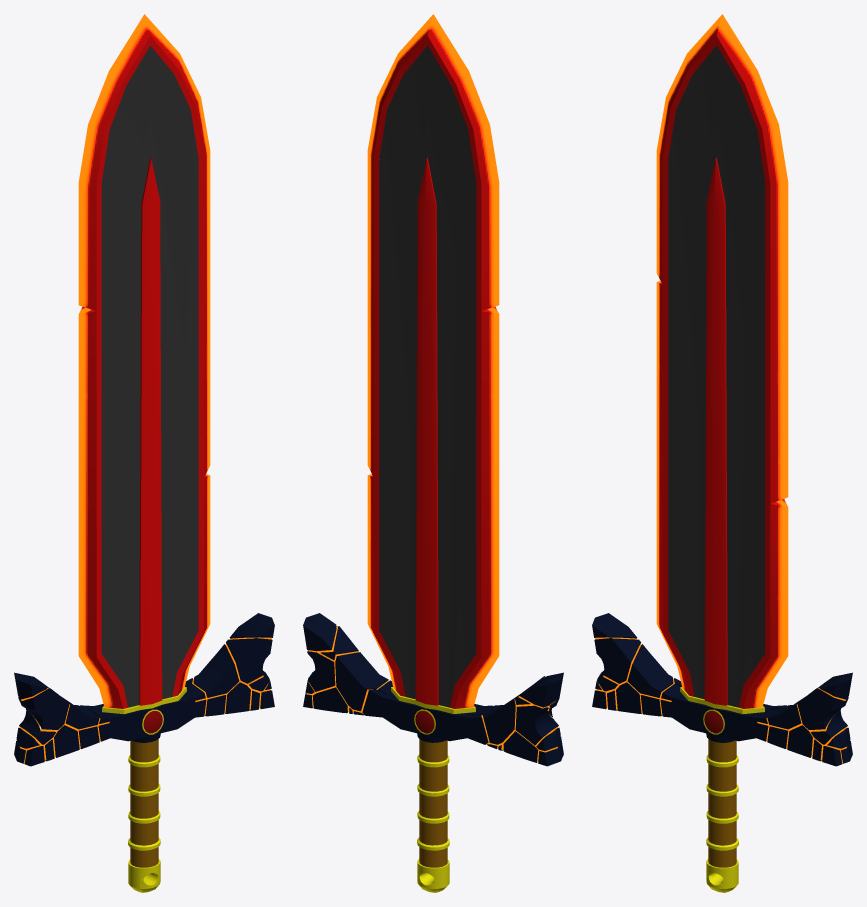
File: ruby_essence_sword.glb
The picture shows the model from 3 angles, left to right: view 1: azimuth 30°, elevation 25°; view 2: azimuth 150°, elevation 25°; view 3: azimuth 330°, elevation 25°; orthographic projection.
Parts seen in each view (by area): view 1: Ruby Eclipse; view 2: Ruby Eclipse; view 3: Ruby Eclipse.
Boxes of the visible parts, box(x1,y1,x2,y2) form: Ruby Eclipse: box(14, 14, 274, 892); Ruby Eclipse: box(303, 14, 563, 892); Ruby Eclipse: box(592, 14, 852, 892).
Bounding box in the file's own units: 1.55 × 5.08 × 0.1902.
1 material, 1 textured.
